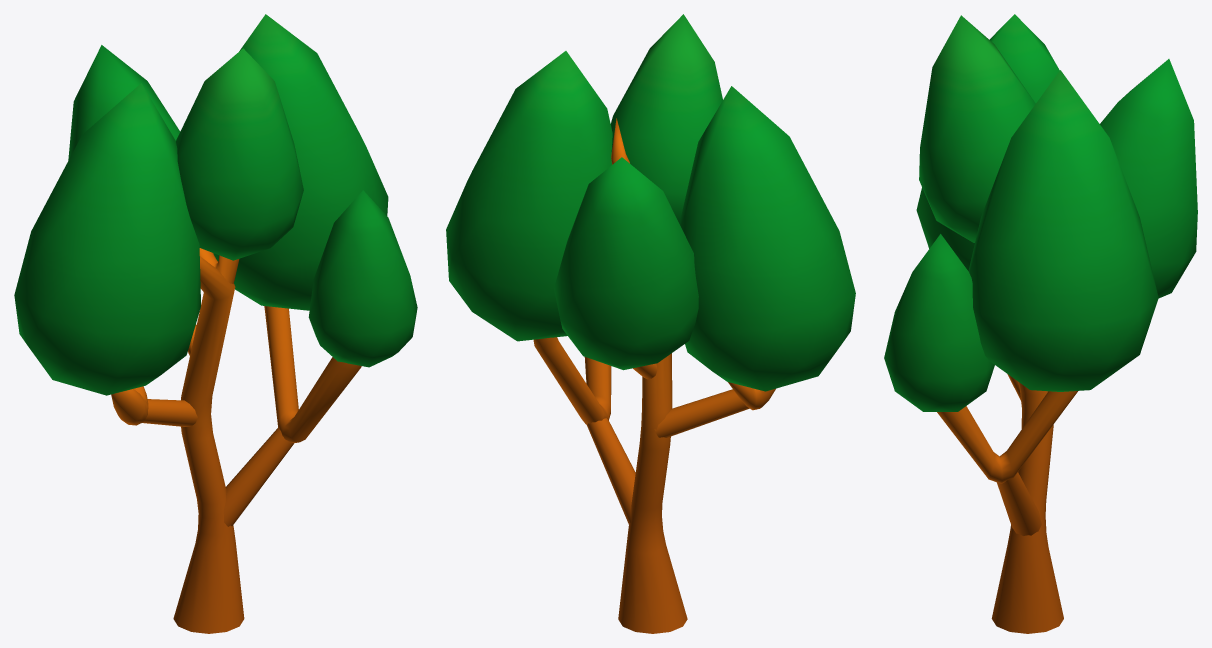
The model's file is Tree_04.fbx.
The picture shows the model from 3 angles, left to right: view 1: azimuth 30°, elevation 25°; view 2: azimuth 150°, elevation 25°; view 3: azimuth 270°, elevation 25°; orthographic projection. The views are drawn at different scales.
Visible parts, largest first — view 1: Tree_04; view 2: Tree_04; view 3: Tree_04.
Part boxes in pixels (x1,y1,x2,y2): Tree_04: (14,14,417,633); Tree_04: (446,14,855,633); Tree_04: (884,14,1197,633).
Bounding box in the file's own units: 247 × 179 × 381.
